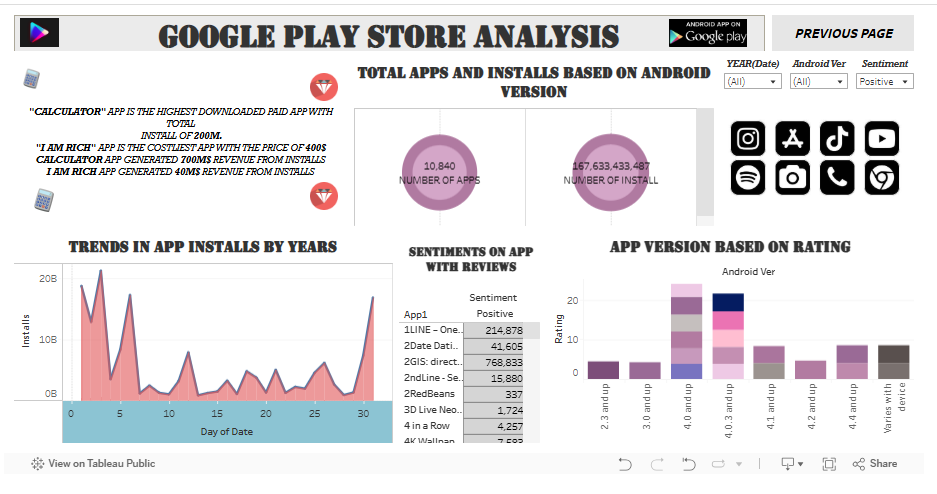

The dashboard page shown, as its layout file describes it:
{"tool":"tableau","page":{"name":"Dashboard 2","canvas":[1000,1000],"units":"permille","ordinal":1},"visuals":[{"type":"worksheet","title":"Title","mark":"Automatic","box":[7,14.9,824.2,95.5]},{"type":"dashboard-object","box":[831.2,14.9,161.7,95.5]},{"type":"image","param":"Image/image 2.jpg","box":[17.4,29,48.7,65.5]},{"type":"image","param":"Image/playstore9.png","box":[722.6,32,130.4,61]},{"type":"text","box":[7,110.4,369.3,389.6]},{"type":"worksheet","title":"Donut chart 2","mark":"Pie","cols":["Calculation_1052716421724962816","Calculation_1052716421724962816","X (copy)_1052716421726019585","X (copy)_1052716421726019585"],"box":[376.3,110.4,401.8,389.6]},{"type":"filter","title":"Sheet 16","param":"[federated.1fkzn2g1wzkme212ahe421t91n51].[yr:Calculation_144396672976281600:ok]","box":[778,110.4,71.6,389.6]},{"type":"filter","title":"Donut chart 2","param":"[federated.1fkzn2g1wzkme212ahe421t91n51].[none:Android Ver:nk]","box":[849.7,110.4,71.6,389.6]},{"type":"filter","title":"sentiments","param":"[federated.1fkzn2g1wzkme212ahe421t91n51].[none:Sentiment:nk]","box":[921.3,110.4,71.7,389.6]},{"type":"image","param":"Image/calcu.jpg","box":[16.8,135.7,37.4,55.4]},{"type":"image","param":"Image/iamrich2.png","box":[333.3,151.8,46.7,62.5]},{"type":"image","param":"Image/imagebruh.jpg","box":[775.4,232.1,229,217.9]},{"type":"image","param":"Image/iamrich2.png","box":[332.5,394.6,44.7,62.5]},{"type":"image","param":"Image/calcu.jpg","box":[27.2,401.8,32.5,67.9]},{"type":"worksheet","title":"Sheet 16","mark":"Line","rows":["Installs","Calculation_963770329833697283"],"cols":["Calculation_144396672976281600"],"box":[7,500,423.2,485.1]},{"type":"worksheet","title":"sentiments","mark":"Square","rows":["App"],"cols":["Sentiment"],"box":[430.2,500,161.6,485.1]},{"type":"worksheet","title":"APP VERSION BASED ON RATING","mark":"Automatic","rows":["Rating"],"cols":["Android Ver"],"box":[591.7,500,401.2,485.1]}]}

Visuals, with their boxes on the dashboard's canvas, which has no fixed pixel size, in thousandths of its width and height (x1, y1, x2, y2). These are canvas units, not pixel positions in the 937x494 screenshot, which may show the page scaled, cropped or inside an application window:
"Title" worksheet: <region>7, 15, 831, 110</region>
dashboard-object: <region>831, 15, 993, 110</region>
image: <region>17, 29, 66, 94</region>
image: <region>723, 32, 853, 93</region>
text: <region>7, 110, 376, 500</region>
"Donut chart 2" worksheet (Pie marks): <region>376, 110, 778, 500</region>
"Sheet 16" filter: <region>778, 110, 850, 500</region>
"Donut chart 2" filter: <region>850, 110, 921, 500</region>
"sentiments" filter: <region>921, 110, 993, 500</region>
image: <region>17, 136, 54, 191</region>
image: <region>333, 152, 380, 214</region>
image: <region>775, 232, 1004, 450</region>
image: <region>332, 395, 377, 457</region>
image: <region>27, 402, 60, 470</region>
"Sheet 16" worksheet (Line marks): <region>7, 500, 430, 985</region>
"sentiments" worksheet (Square marks): <region>430, 500, 592, 985</region>
"APP VERSION BASED ON RATING" worksheet: <region>592, 500, 993, 985</region>
